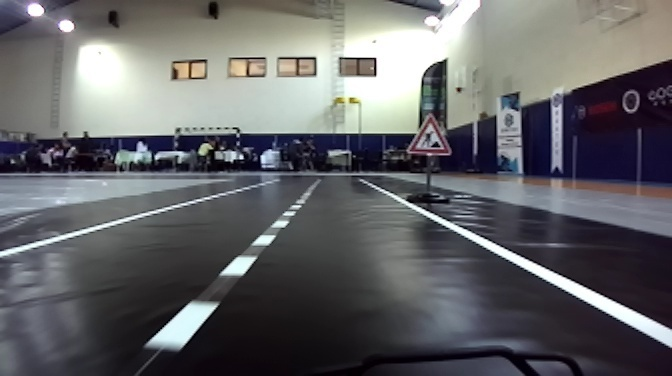yol_yapimi: (406, 115, 454, 159)
